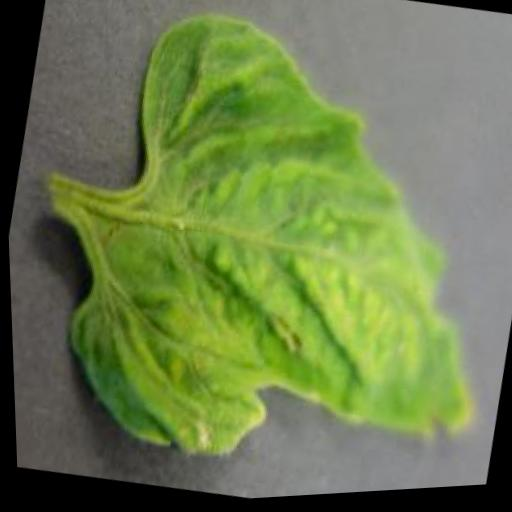Yellow Leaf Curl Virus: (36, 0, 512, 510)
